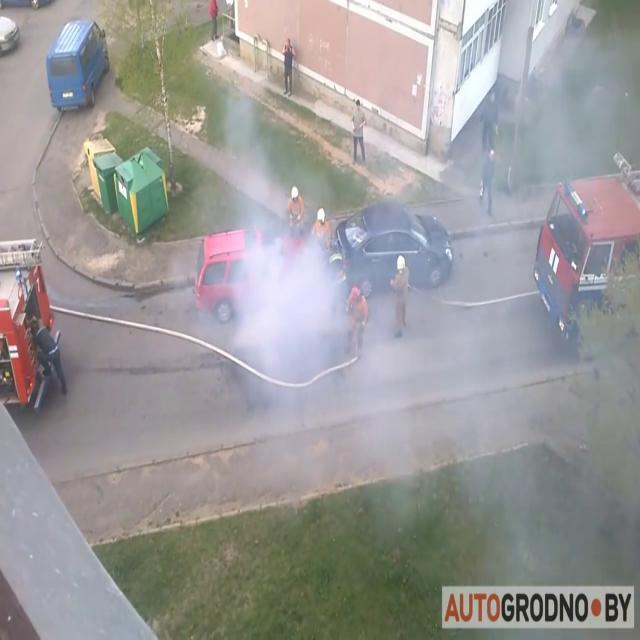Smoke: (376, 24, 636, 510), (185, 98, 389, 397)
